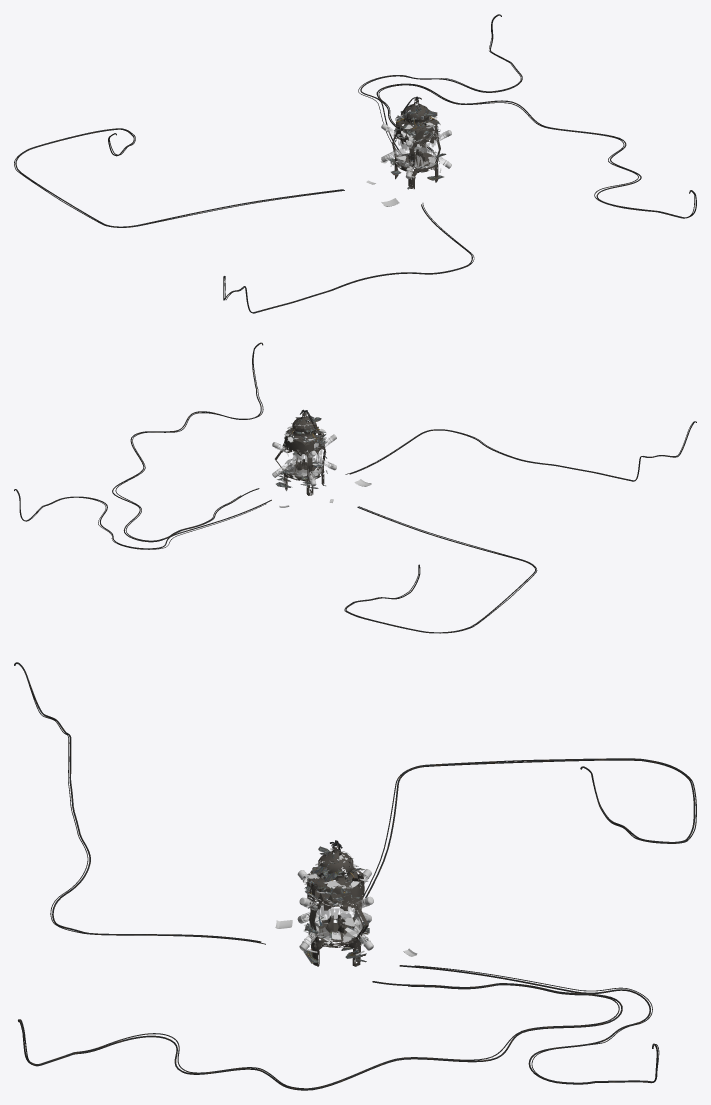
The model's file is ExplodedReactor.fbx.
The picture shows the model from 3 angles, top to bottom: view 1: azimuth 30°, elevation 25°; view 2: azimuth 150°, elevation 25°; view 3: azimuth 270°, elevation 25°; orthographic projection. The views are drawn at different scales.
Parts seen in each view (by area): view 1: Reactor_model.003; view 2: Reactor_model.003; view 3: Reactor_model.003.
Part boxes in pixels (<box>): Reactor_model.003: <box>14,14,696,313</box>; Reactor_model.003: <box>14,342,696,633</box>; Reactor_model.003: <box>14,662,696,1090</box>.
Bounding box in the file's own units: 5981 × 945 × 5021.
